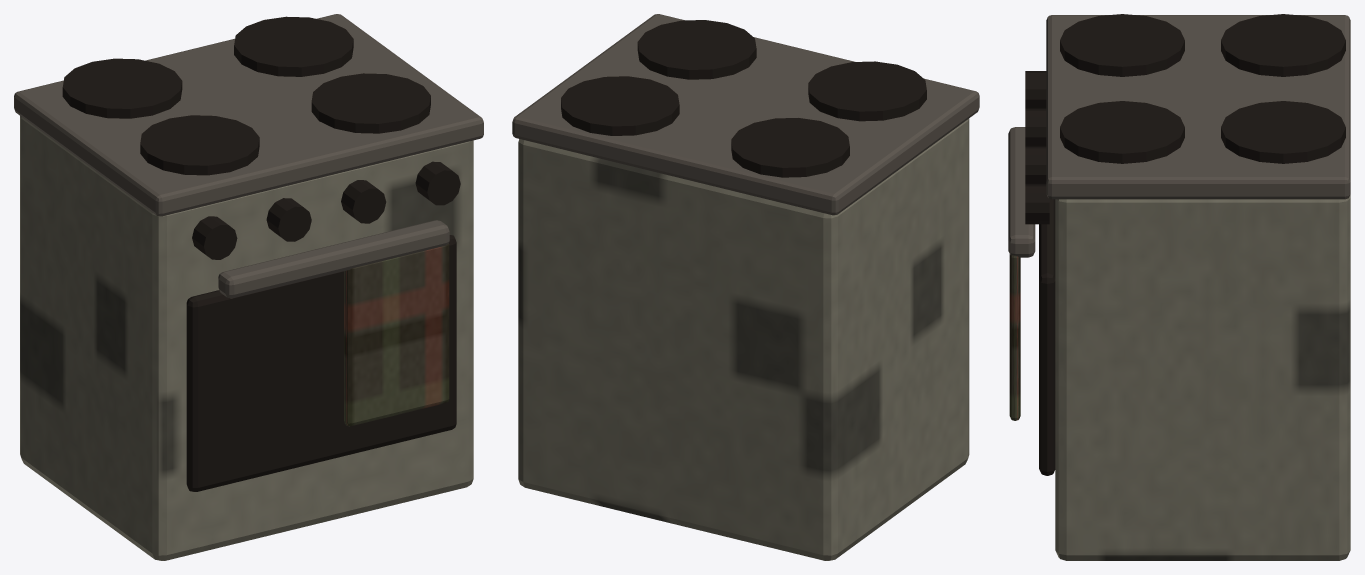
Rendered from worn-stove.glb.
3 views of the same model, side by side, from view 1: azimuth 30°, elevation 25°; view 2: azimuth 150°, elevation 25°; view 3: azimuth 270°, elevation 25° (orthographic). The views are drawn at different scales.
Parts seen in each view (by area): view 1: SM_StoveBody, SM_lonely_house_worn_stove_SootBlack, SM_lonely_house_worn_stove_OxidizedMetal, SM_OvenTowel; view 2: SM_StoveBody, SM_lonely_house_worn_stove_OxidizedMetal, SM_lonely_house_worn_stove_SootBlack; view 3: SM_StoveBody, SM_lonely_house_worn_stove_OxidizedMetal, SM_lonely_house_worn_stove_SootBlack, SM_OvenTowel.
Boxes of the visible parts, <box> form: SM_StoveBody: <box>20,116,473,560</box>; SM_lonely_house_worn_stove_SootBlack: <box>62,16,460,491</box>; SM_lonely_house_worn_stove_OxidizedMetal: <box>14,14,483,298</box>; SM_OvenTowel: <box>344,243,449,426</box>; SM_StoveBody: <box>518,118,969,560</box>; SM_lonely_house_worn_stove_OxidizedMetal: <box>512,14,979,215</box>; SM_lonely_house_worn_stove_SootBlack: <box>561,20,926,177</box>; SM_StoveBody: <box>1055,194,1350,560</box>; SM_lonely_house_worn_stove_OxidizedMetal: <box>1008,15,1350,257</box>; SM_lonely_house_worn_stove_SootBlack: <box>1025,14,1345,475</box>; SM_OvenTowel: <box>1009,254,1020,420</box>.
Bounding box in the file's own units: 0.88 × 0.9875 × 0.765.
4 materials, 2 textured.
